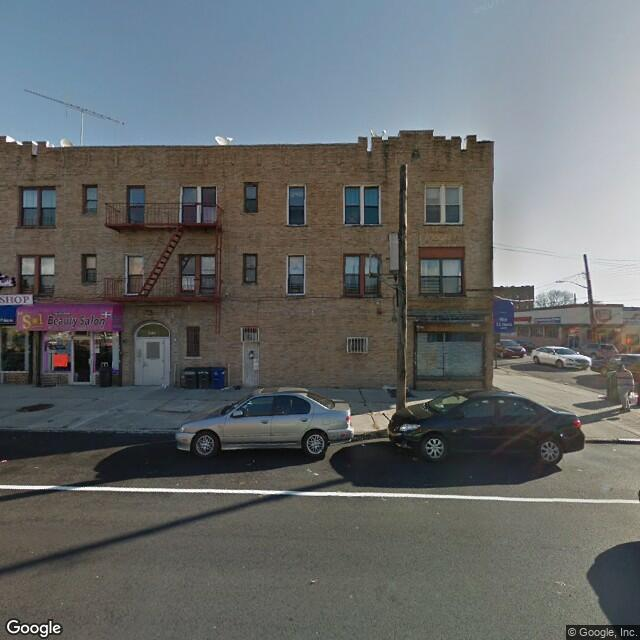litter: (234, 383, 243, 394), (308, 578, 319, 586), (217, 384, 228, 390), (1, 457, 10, 461)
